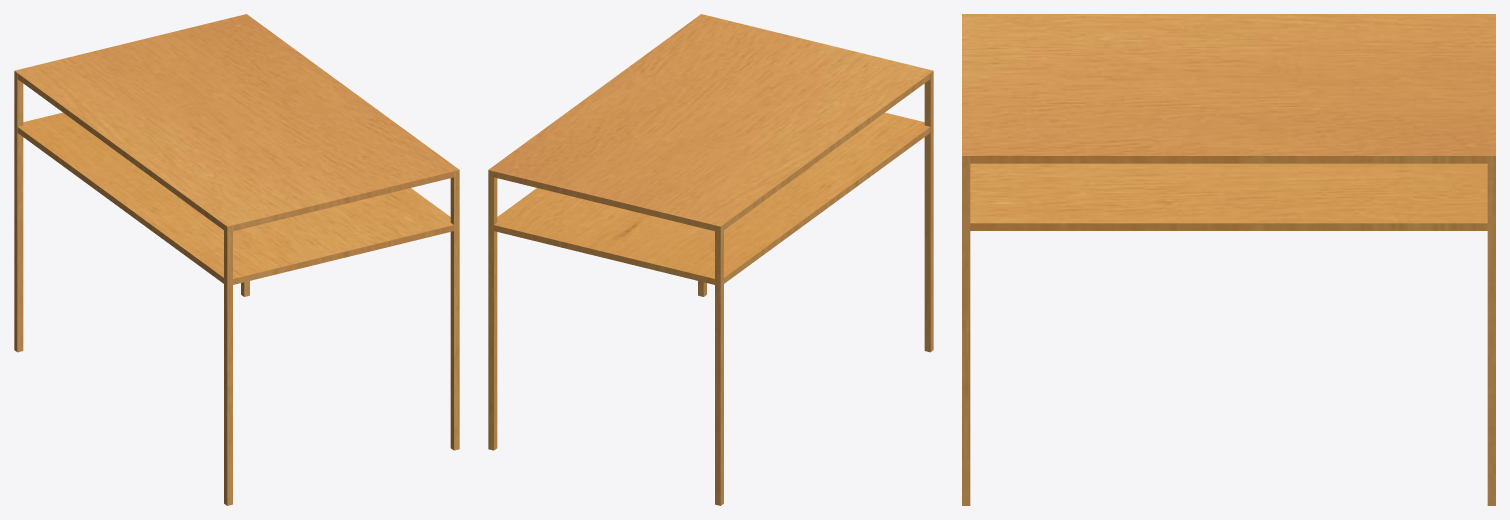
File: table3.fbx
3 renders of one model, left to right at view 1: azimuth 30°, elevation 25°; view 2: azimuth 150°, elevation 25°; view 3: azimuth 270°, elevation 25°, orthographic. The views are drawn at different scales.
Visible parts, largest first — view 1: Cube; view 2: Cube; view 3: Cube.
Boxes of the visible parts, bbox=[...] form: Cube: bbox=[14, 14, 459, 505]; Cube: bbox=[488, 14, 933, 505]; Cube: bbox=[962, 14, 1495, 505].
Size of the model in its own units: 0.8686 by 1.38 by 0.9969.
